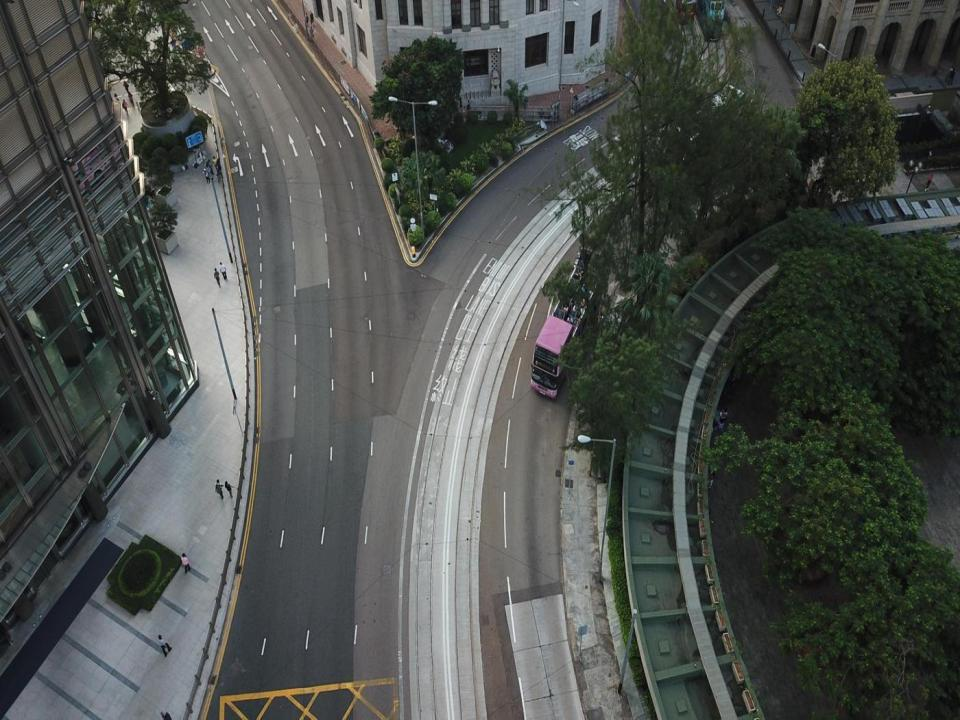bus: (530, 243, 601, 399), (698, 0, 725, 40)
